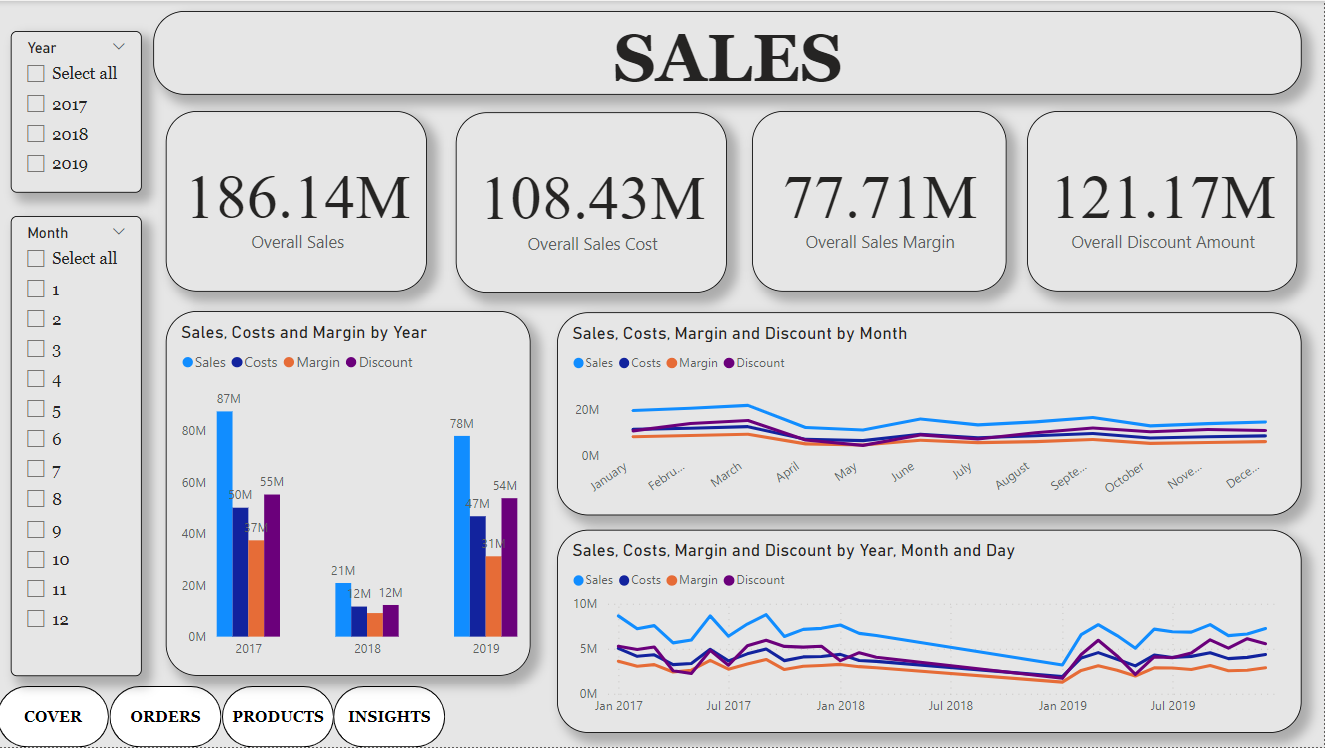

This screenshot's page, from the dashboard's own definition file:
{"tool":"powerbi","page":{"name":"SALES","canvas":[1280,720],"ordinal":1},"visuals":[{"type":"card","fields":{"Values":["Sum(Amazon_dataset.Sales Amount)"]},"box":[163.2,105.6,252.3,174.1],"z":0},{"type":"card","fields":{"Values":["Sum(Amazon_dataset.Sales Cost Amount)"]},"box":[442.8,106.9,261.9,174.1],"z":1000},{"type":"card","fields":{"Values":["Sum(Amazon_dataset.Sales Margin Amount)"]},"box":[728,105.6,245.4,174.1],"z":2000},{"type":"card","fields":{"Values":["Sum(Amazon_dataset.Discount Amount)"]},"box":[994,105.6,260.5,174.1],"z":3000},{"type":"shape","box":[0,660.8,108.3,59],"z":4000},{"type":"shape","box":[108.3,660.8,108.3,59],"z":5000},{"type":"shape","box":[216.6,660.8,108.3,59],"z":6000},{"type":"shape","box":[324.9,660.8,108.3,59],"z":7000},{"type":"slicer","fields":{"Values":["Amazon_dataset.Year"]},"box":[13.7,28.8,126.1,156.3],"z":8000},{"type":"slicer","fields":{"Values":["Amazon_dataset.Month"]},"box":[13.7,207,126.1,444.2],"z":9000},{"type":"textbox","title":"SALES","box":[150.8,9.6,1107.8,80.9],"z":10000},{"type":"clusteredColumnChart","title":"Sales, Costs and Margin by Year","fields":{"Category":["Amazon_dataset.Year"],"Y":["Sum(Amazon_dataset.Sales Amount)","Sum(Amazon_dataset.Sales Cost Amount)","Sum(Amazon_dataset.Sales Margin Amount)","Sum(Amazon_dataset.Discount Amount)"]},"box":[163.2,298.9,352.4,352.4],"z":11000},{"type":"lineChart","fields":{"Category":["Calendar.Date.Variation.Date Hierarchy.Month"],"Y":["Sum(Amazon_dataset.Sales Amount)","Sum(Amazon_dataset.Sales Cost Amount)","Sum(Amazon_dataset.Sales Margin Amount)","Sum(Amazon_dataset.Discount Amount)"]},"box":[540.2,300.3,718.4,196.1],"z":12000},{"type":"lineChart","fields":{"Y":["Sum(Amazon_dataset.Sales Amount)","Sum(Amazon_dataset.Sales Cost Amount)","Sum(Amazon_dataset.Sales Margin Amount)","Sum(Amazon_dataset.Discount Amount)"],"Category":["Amazon_dataset.Month_Year.Variation.Date Hierarchy.Year","Amazon_dataset.Month_Year.Variation.Date Hierarchy.Month","Amazon_dataset.Month_Year.Variation.Date Hierarchy.Day"]},"box":[540.2,510,718.4,196.1],"z":13000}]}

Visuals, with their boxes in screenshot pixels (x1, y1, x2, y2), scaled from the page's 1280x720 canvas onto the 1325x748 screenshot:
card - Sum(Amazon_dataset.Sales Amount): 169 110 430 291
card - Sum(Amazon_dataset.Sales Cost Amount): 458 111 729 292
card - Sum(Amazon_dataset.Sales Margin Amount): 754 110 1008 291
card - Sum(Amazon_dataset.Discount Amount): 1029 110 1299 291
shape: 0 686 112 747
shape: 112 686 224 747
shape: 224 686 336 747
shape: 336 686 448 747
slicer - Amazon_dataset.Year: 14 30 145 192
slicer - Amazon_dataset.Month: 14 215 145 677
"SALES" textbox: 156 10 1303 94
"Sales, Costs and Margin by Year" clusteredColumnChart: 169 311 534 677
lineChart - Calendar.Date.Variation.Date Hierarchy.Month x Sum(Amazon_dataset.Sales Amount): 559 312 1303 516
lineChart - Sum(Amazon_dataset.Sales Amount) x Sum(Amazon_dataset.Sales Cost Amount): 559 530 1303 734
